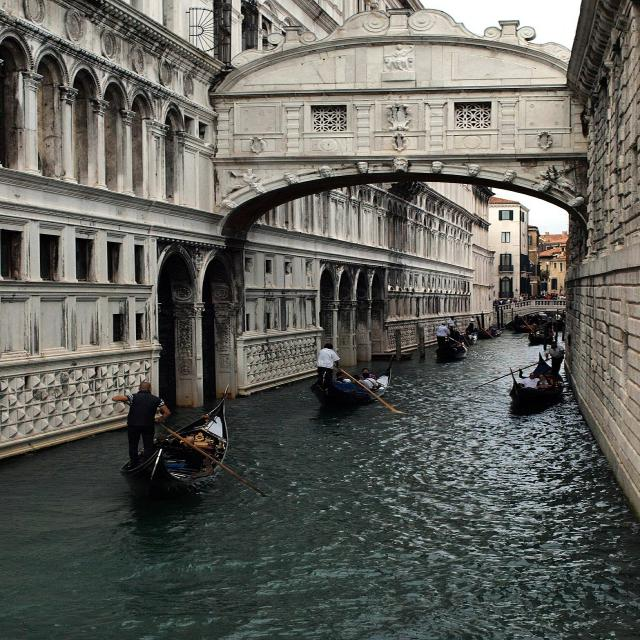boat: (111, 362, 247, 525), (297, 327, 409, 432), (501, 335, 577, 426)
